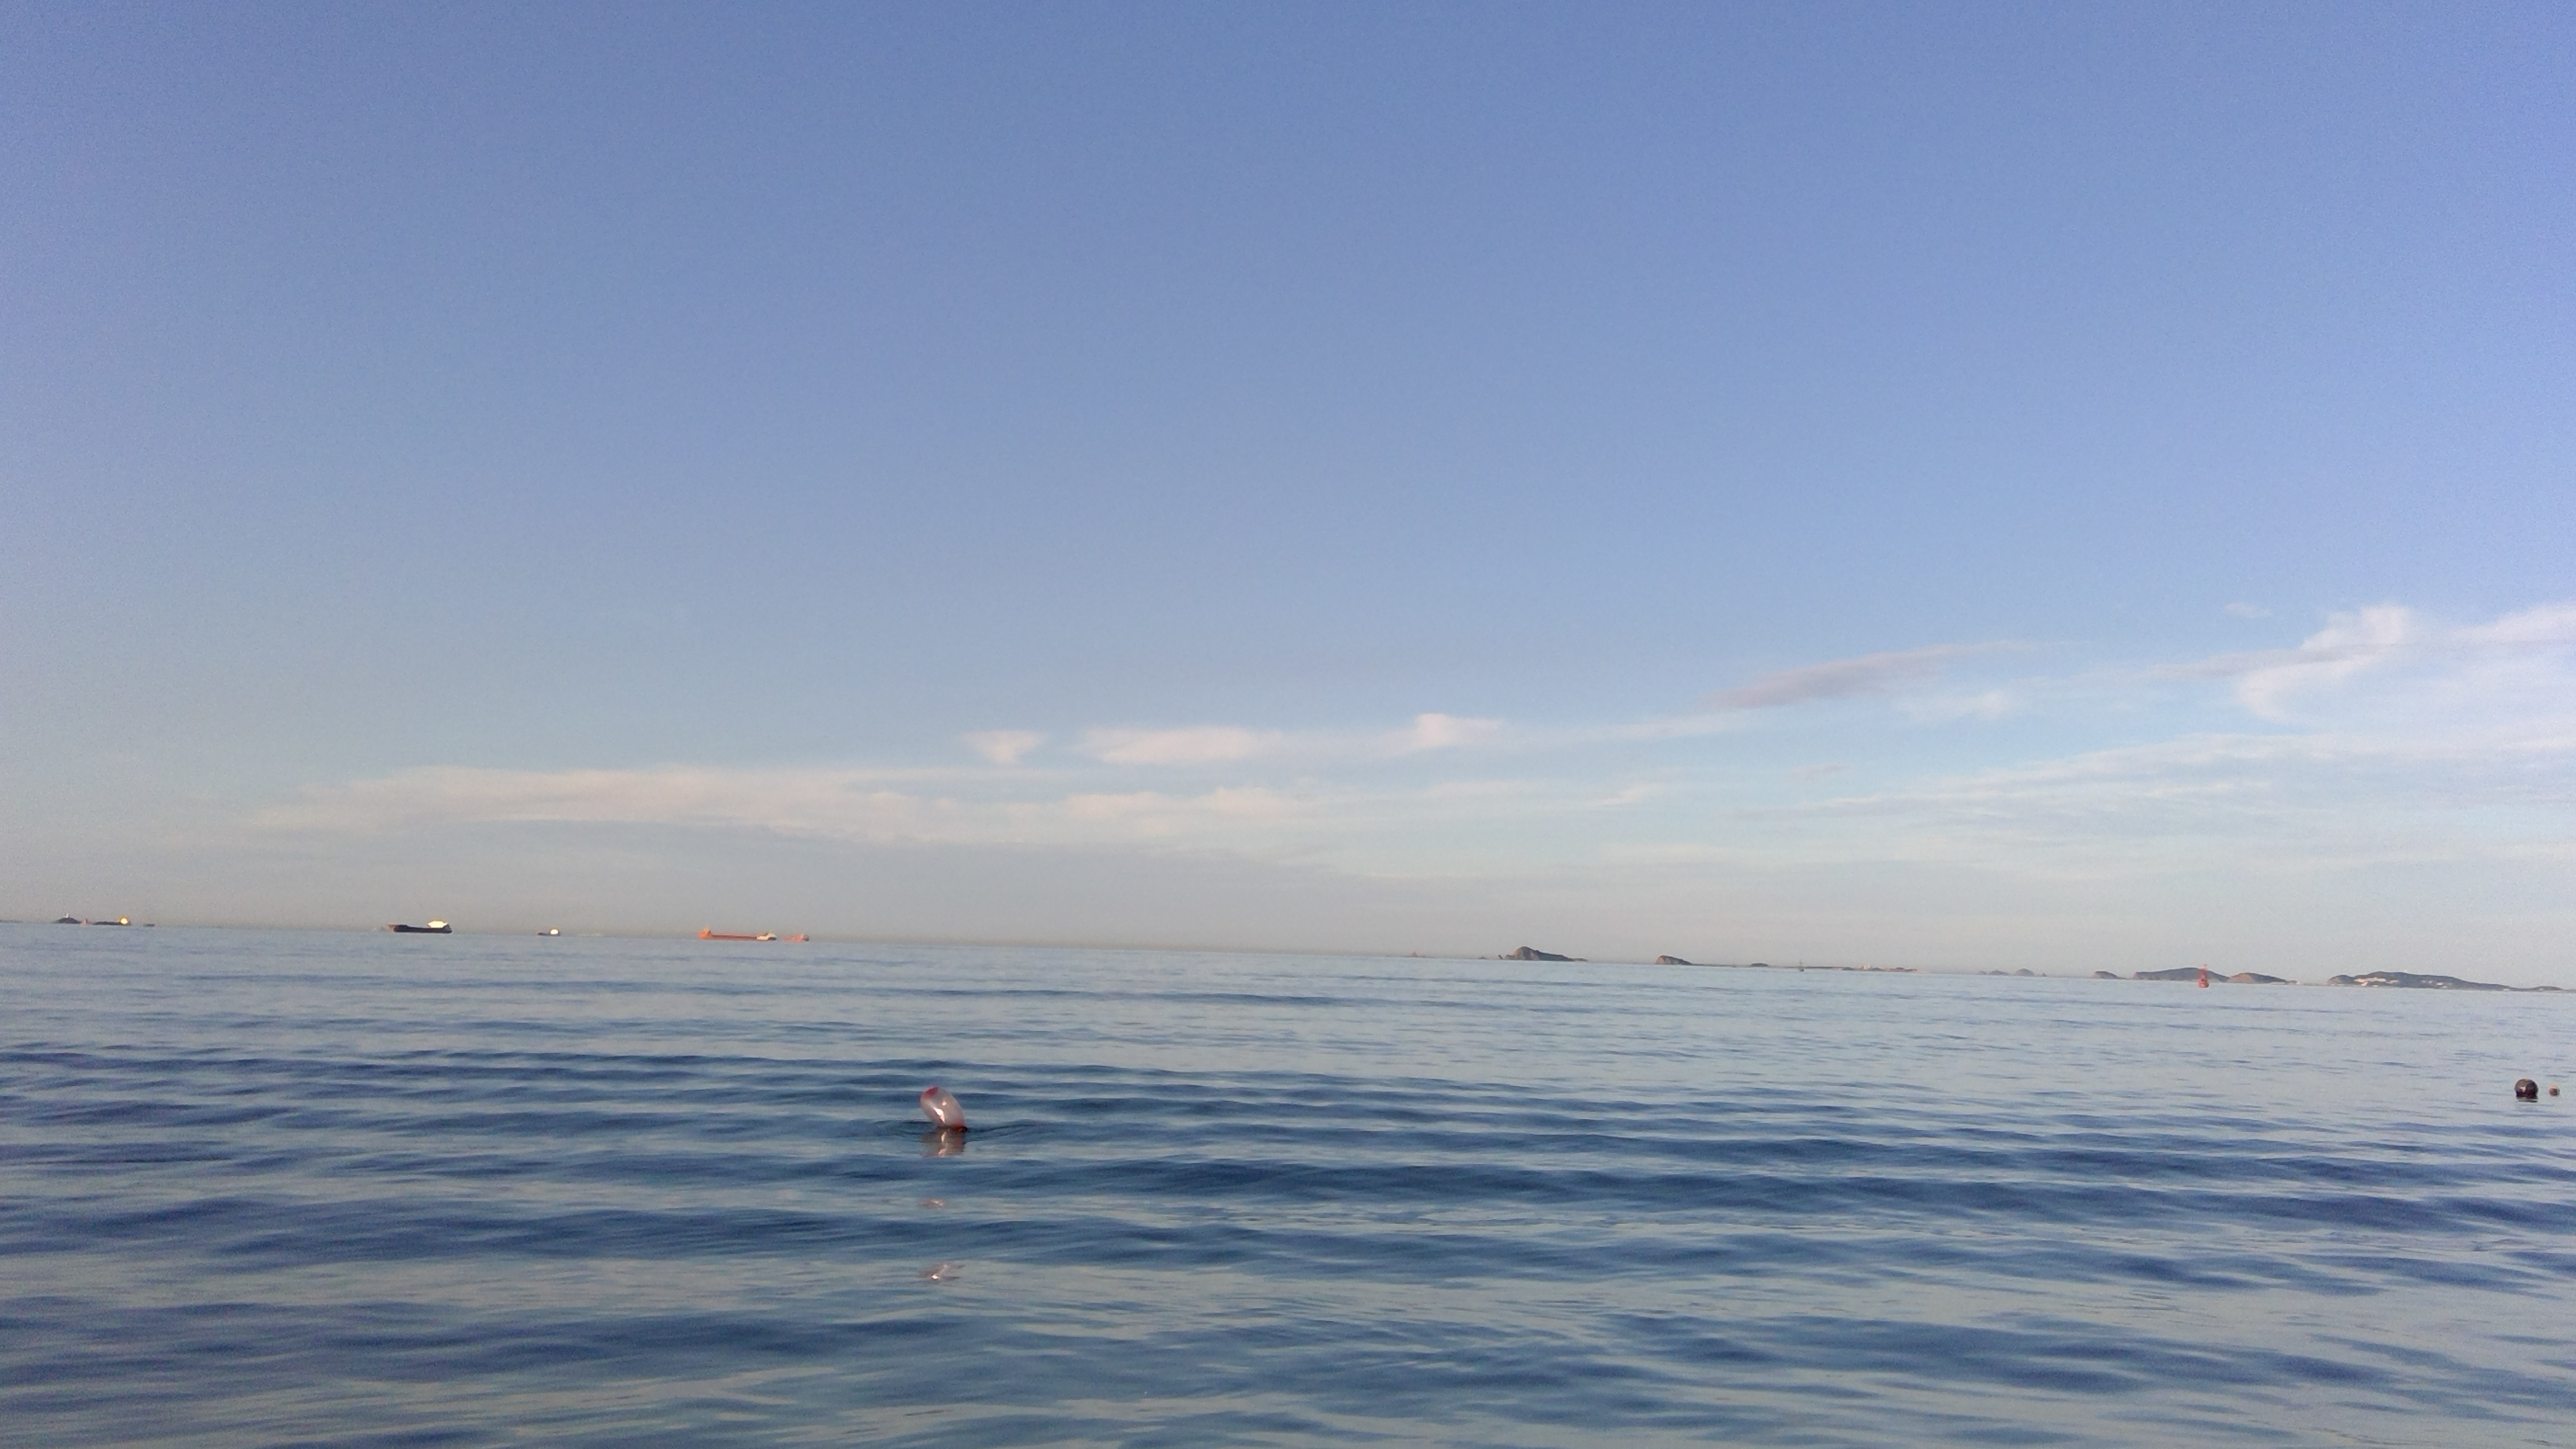ball: (2505, 1067, 2569, 1106)
buoy: (2189, 954, 2217, 1003)
platform: (692, 925, 816, 945)
rock: (2327, 964, 2569, 1000), (2098, 954, 2286, 989), (1499, 931, 1578, 961)
rubbish: (908, 1077, 980, 1157)
ship: (44, 908, 159, 934), (380, 916, 458, 941)
